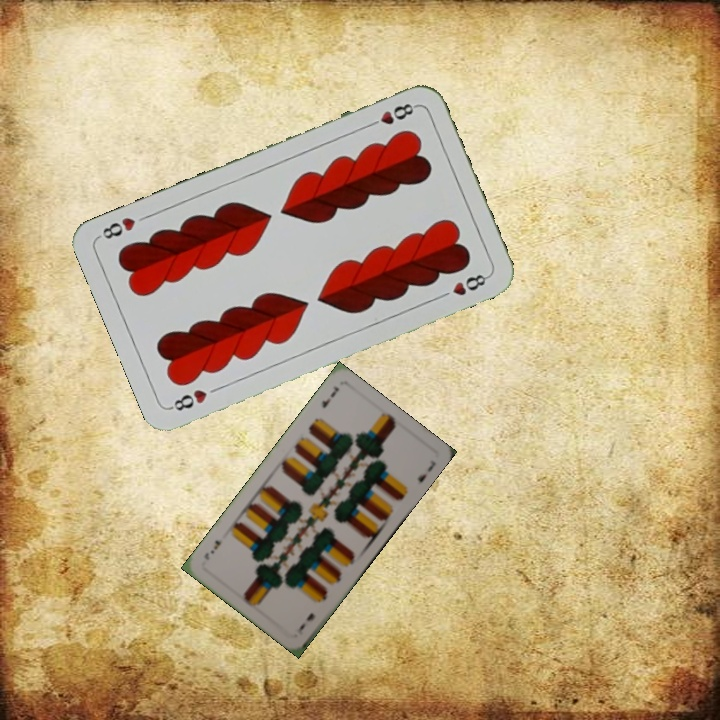E7: (293, 608, 317, 638), (318, 382, 342, 411)
H8: (363, 99, 419, 131), (166, 385, 210, 414)
